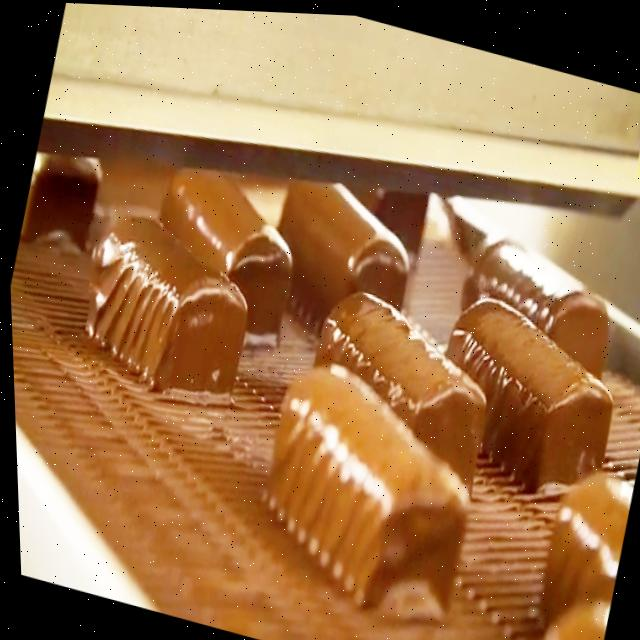Choco: (232, 343, 495, 629), (286, 271, 507, 492), (415, 278, 631, 501), (64, 196, 267, 408), (133, 148, 313, 340), (447, 216, 626, 374), (258, 160, 426, 328)
